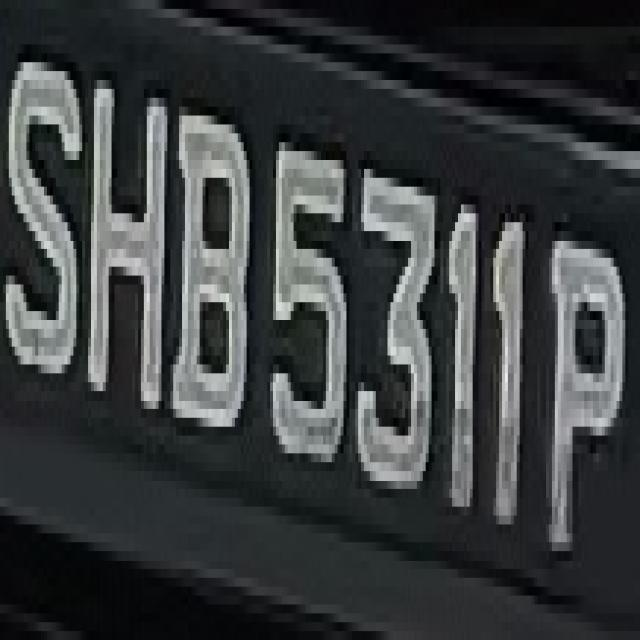1: (482, 178, 528, 569), (438, 169, 482, 569)
3: (349, 133, 432, 524)
5: (264, 124, 350, 498)
B: (174, 71, 258, 462)
H: (82, 62, 170, 436)
P: (546, 204, 628, 586)
S: (15, 44, 79, 409)
